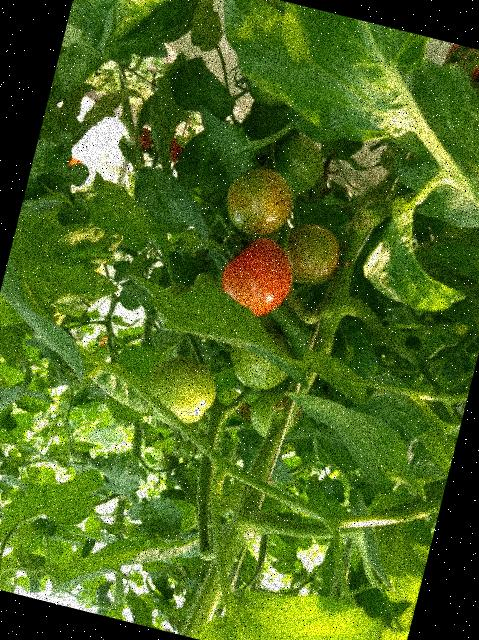l_fully_ripened: (213, 229, 300, 322)
l_green: (136, 349, 222, 433), (222, 322, 300, 397), (277, 218, 345, 292), (265, 131, 330, 201), (243, 380, 309, 447), (191, 269, 223, 296)
l_half_ripened: (218, 161, 300, 244)
